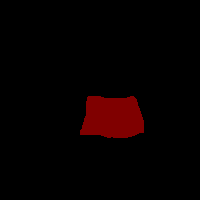mutande: (79, 95, 144, 138)
